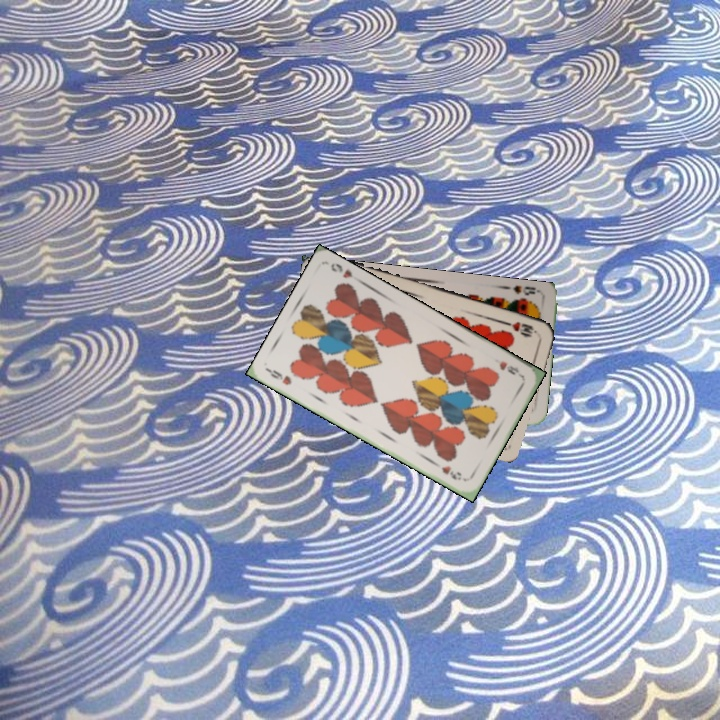H10: (500, 317, 540, 339)
H9: (495, 357, 525, 380), (265, 365, 294, 388)
S8: (509, 281, 544, 298)
